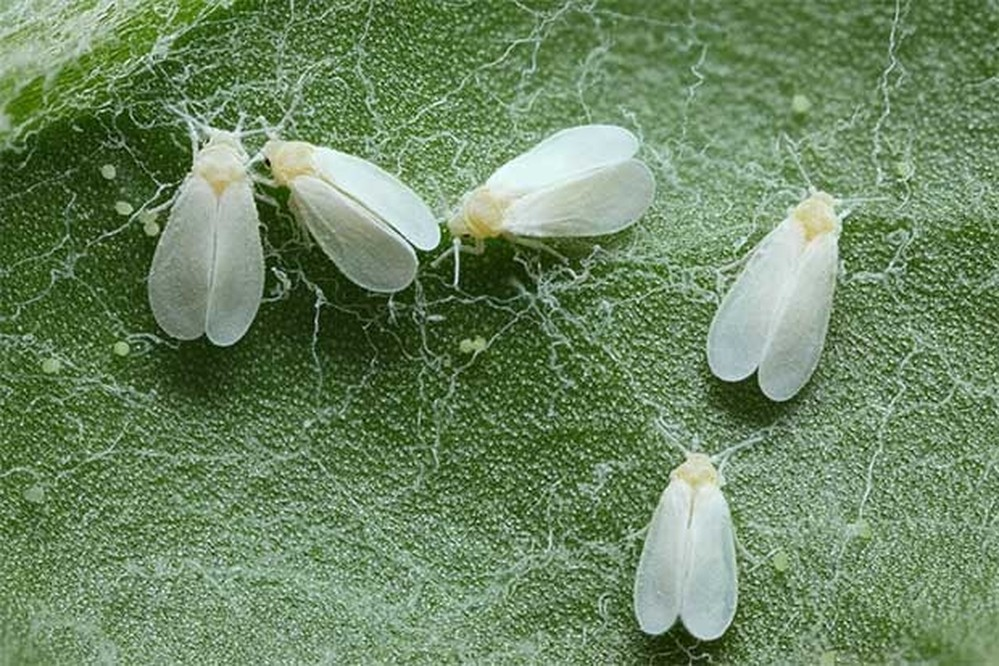Mosca Blanca: (693, 148, 892, 427), (255, 107, 455, 306), (139, 99, 289, 359), (624, 415, 788, 648), (448, 118, 674, 280)
